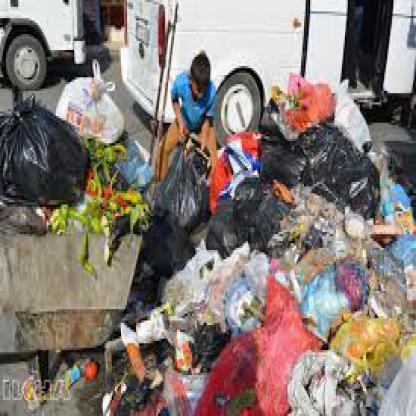Garbage: (268, 79, 414, 414), (134, 255, 270, 414), (169, 145, 280, 257), (292, 75, 374, 216), (0, 98, 91, 209), (96, 150, 160, 230), (59, 73, 129, 146), (102, 323, 154, 414)
